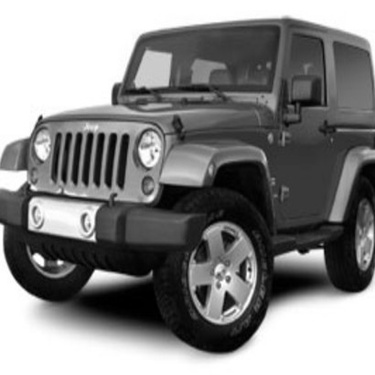car: (15, 20, 375, 334)
